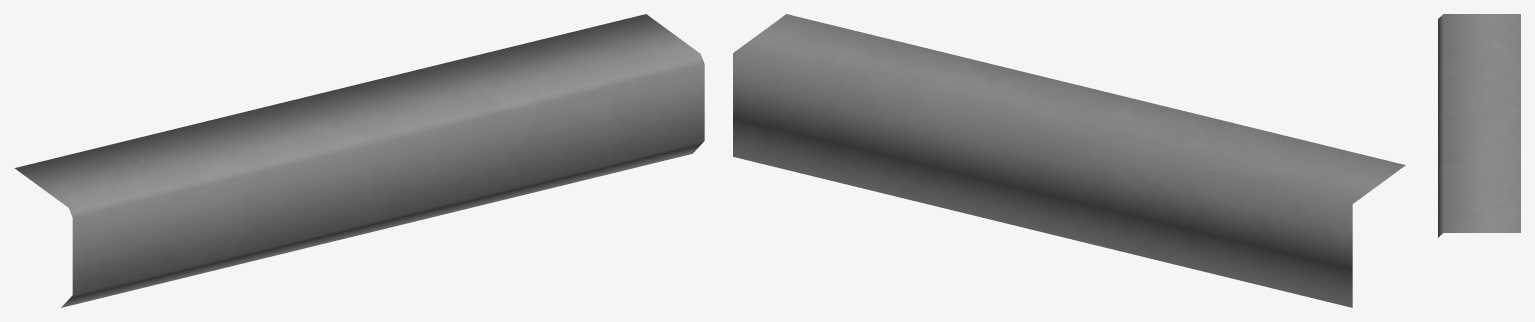
Rendered from SM_Building_RoofPart_01.glb.
3 views of the same model, side by side, from view 1: azimuth 30°, elevation 25°; view 2: azimuth 150°, elevation 25°; view 3: azimuth 270°, elevation 25° (orthographic). The views are drawn at different scales.
Visible parts, largest first — view 1: SM_Building_RoofPart_01; view 2: SM_Building_RoofPart_01; view 3: SM_Building_RoofPart_01.
Boxes of the visible parts, box(x1,y1,x2,y2) form: SM_Building_RoofPart_01: box(14, 14, 704, 307); SM_Building_RoofPart_01: box(733, 14, 1405, 307); SM_Building_RoofPart_01: box(1438, 14, 1520, 237).
Size of the model in its own units: 2.5 by 0.4 by 0.4.
1 material, 1 textured.
